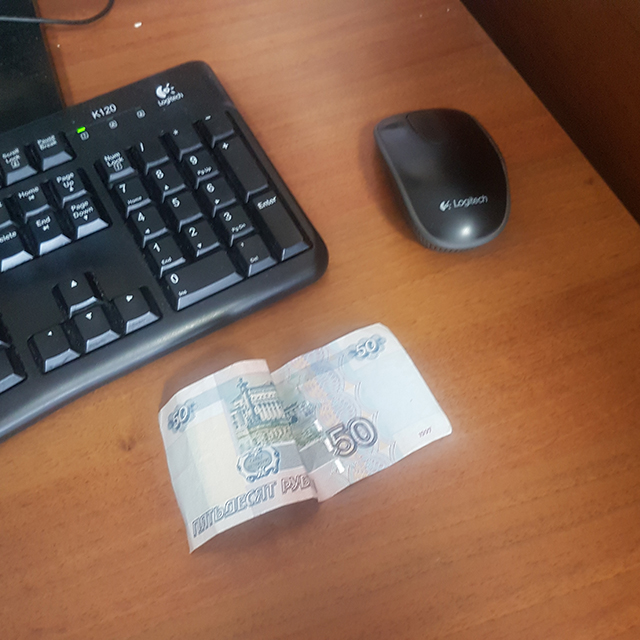banknotes: (157, 321, 454, 552)
